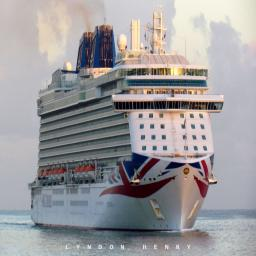cruises: (26, 4, 227, 238)
